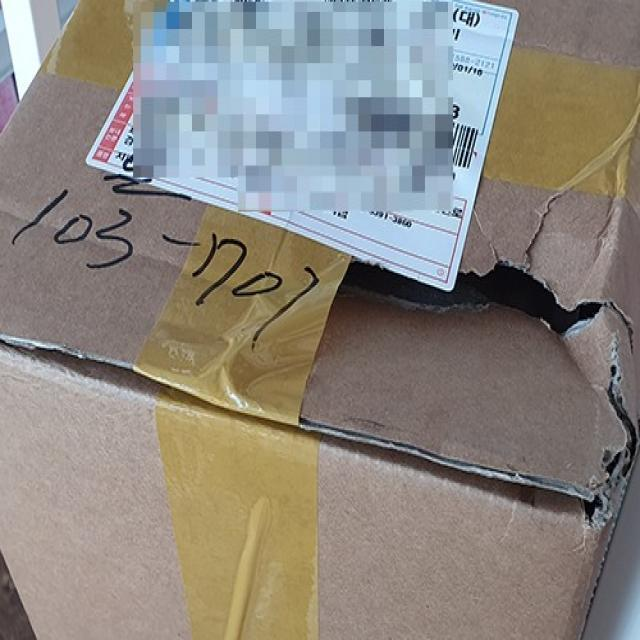damaged: (330, 256, 636, 353), (574, 384, 640, 529)
